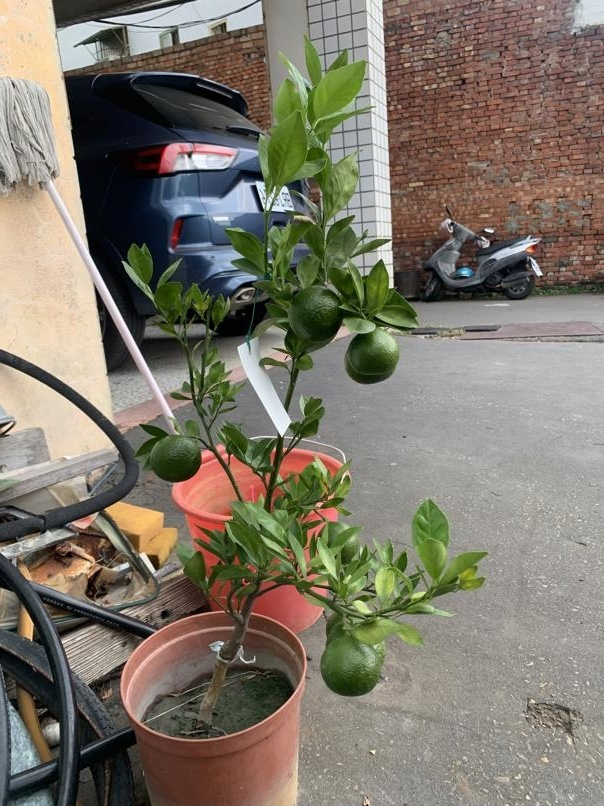Tangerine: (341, 325, 403, 386), (321, 636, 381, 696), (286, 282, 342, 344), (148, 430, 201, 483)
